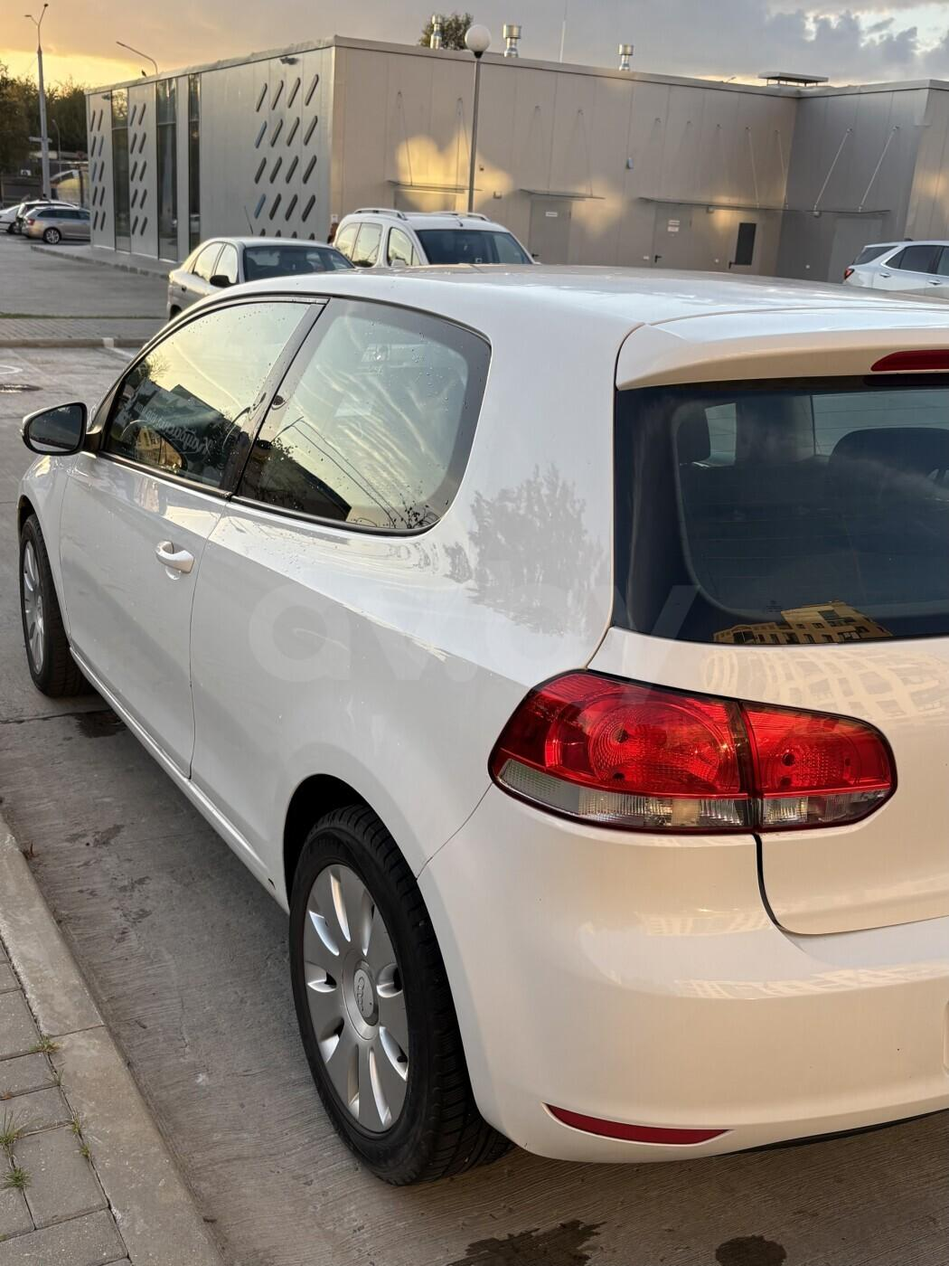Golf_2008-2013: (11, 269, 949, 1179)
